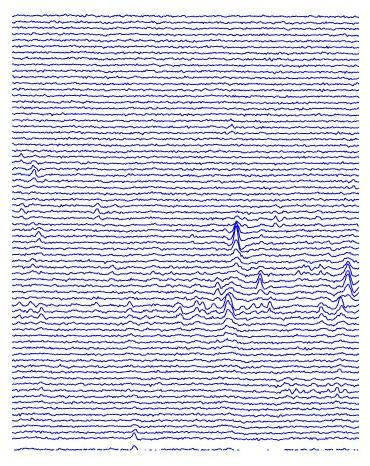defect: (269, 374, 355, 405), (332, 254, 355, 311), (211, 280, 242, 321), (13, 293, 49, 327), (252, 269, 277, 317), (173, 298, 205, 325), (229, 216, 246, 263), (119, 292, 136, 326), (30, 218, 46, 253), (22, 156, 41, 183), (88, 196, 104, 226), (312, 297, 327, 324), (126, 420, 138, 451)
